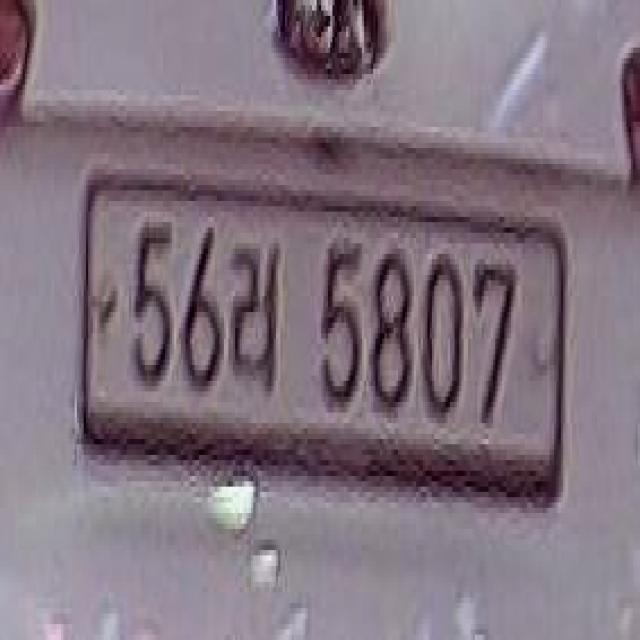illegal_plate: (80, 163, 570, 524)
